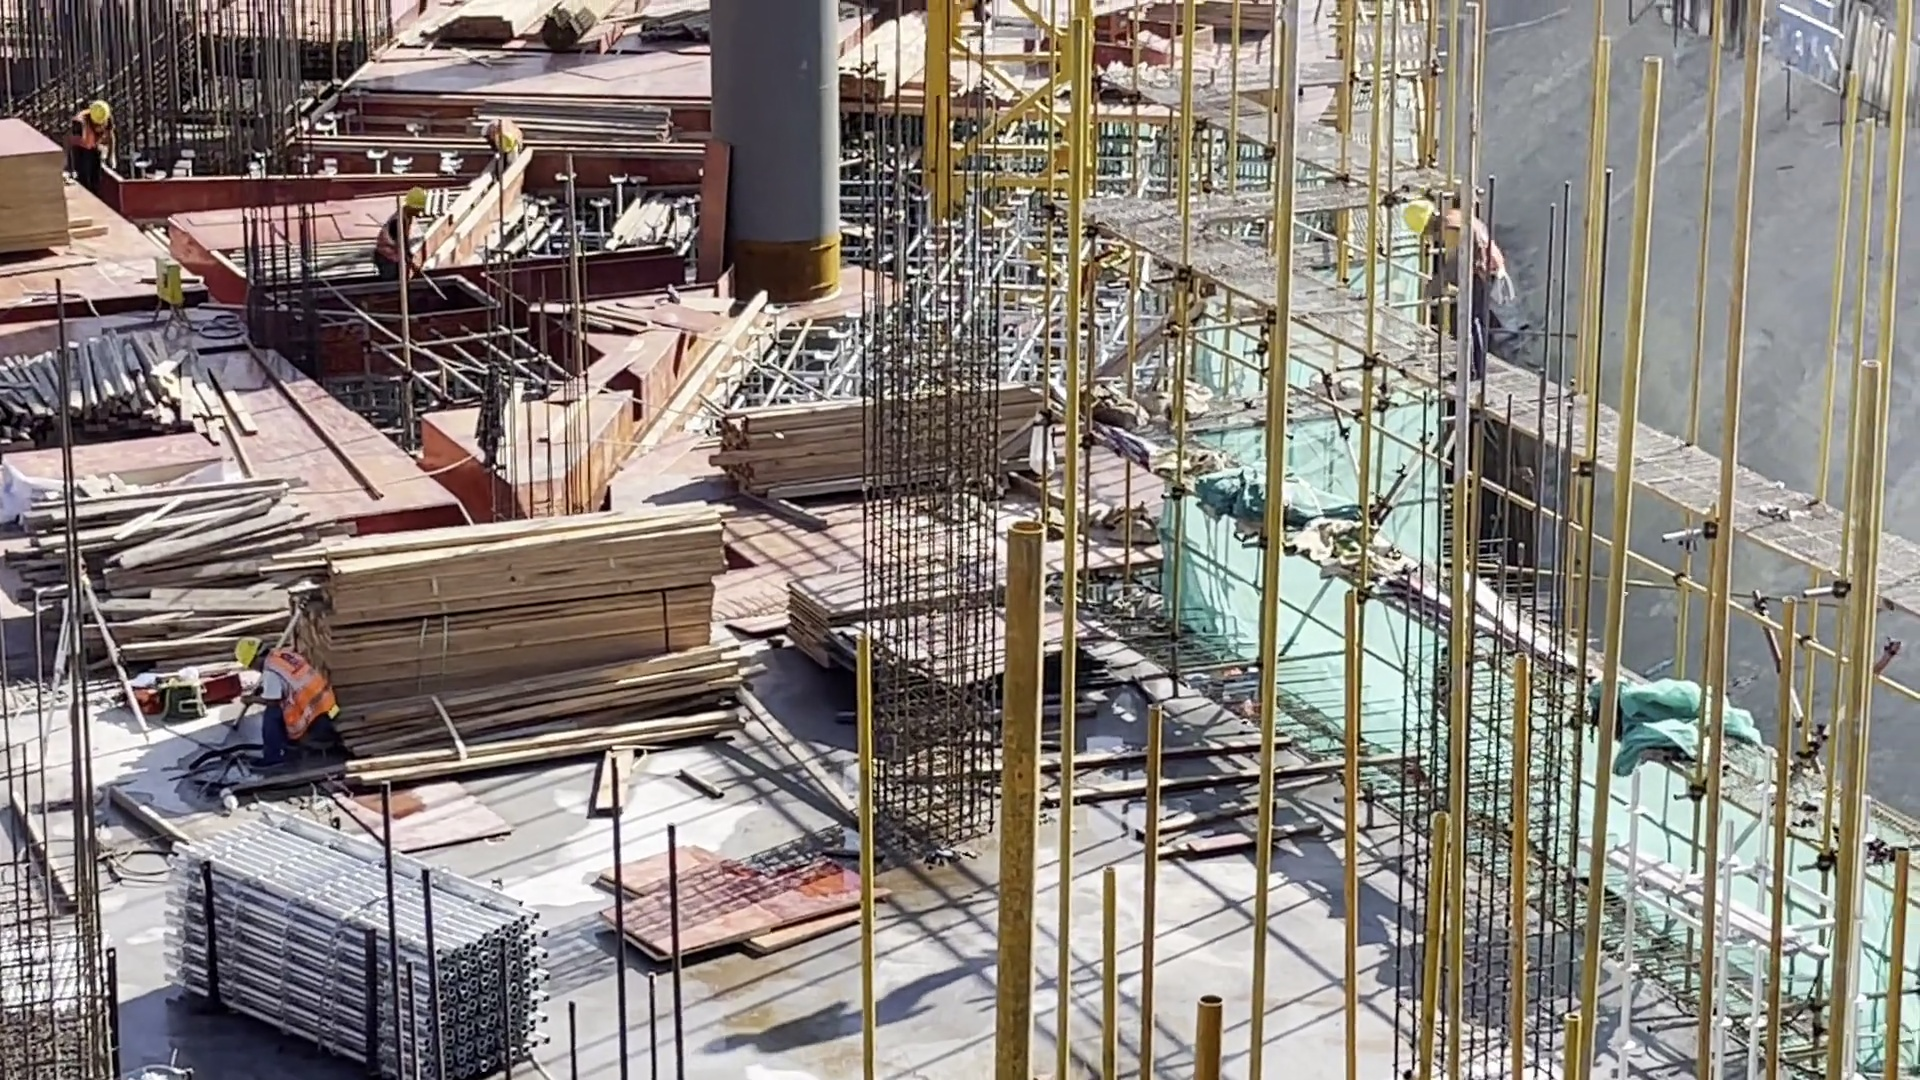helmet: (1404, 203, 1434, 235), (234, 635, 260, 663), (496, 129, 516, 155), (404, 189, 423, 208), (89, 102, 106, 122)
person: (1403, 198, 1515, 386), (233, 638, 344, 764), (377, 191, 434, 276), (63, 102, 123, 175), (474, 117, 529, 165)
vest: (267, 649, 335, 738), (1447, 210, 1503, 291), (68, 112, 115, 151), (377, 210, 410, 263)
